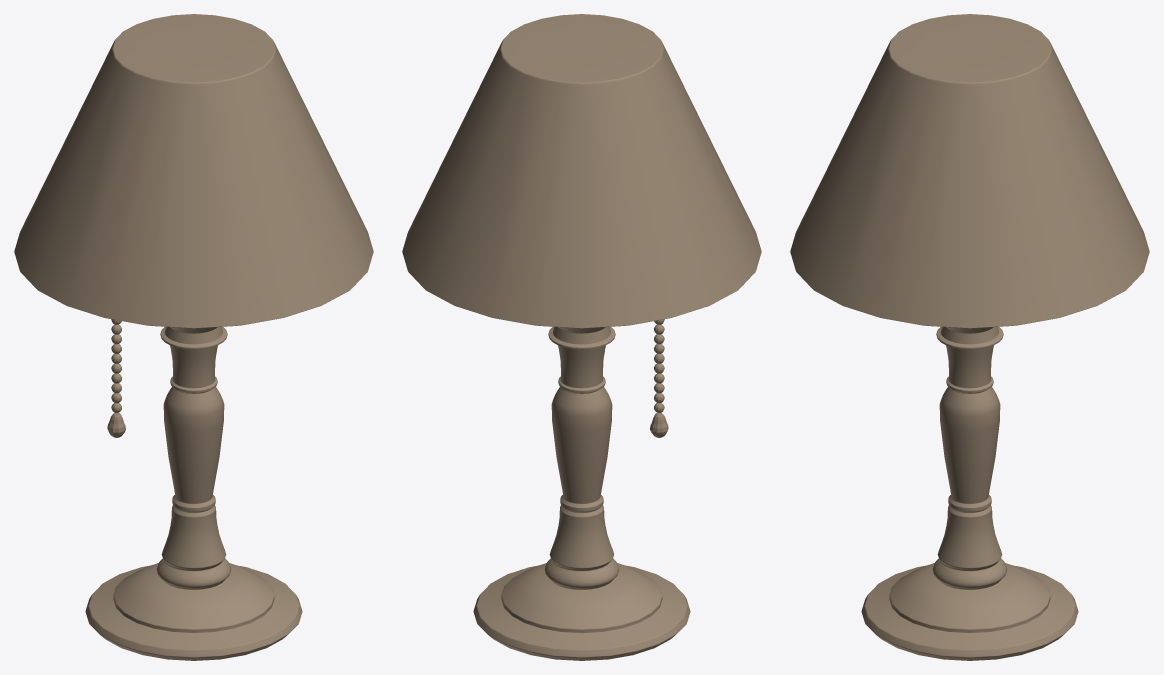
Rendered from Bed_Light.fbx.
3 views of the same model, side by side, from view 1: azimuth 30°, elevation 25°; view 2: azimuth 150°, elevation 25°; view 3: azimuth 270°, elevation 25° (orthographic).
Parts seen in each view (by area): view 1: polySurface494, bed_light, polySurface484; view 2: polySurface494, bed_light, polySurface484; view 3: polySurface494, bed_light.
Part boxes in pixels (<box>): polySurface494: <box>14,14,373,328</box>; bed_light: <box>85,326,302,660</box>; polySurface484: <box>107,319,125,437</box>; polySurface494: <box>402,14,761,328</box>; bed_light: <box>473,326,690,660</box>; polySurface484: <box>650,319,668,437</box>; polySurface494: <box>790,14,1149,328</box>; bed_light: <box>861,326,1078,660</box>.
Size of the model in its own units: 0.2675 by 0.4653 by 0.266.
